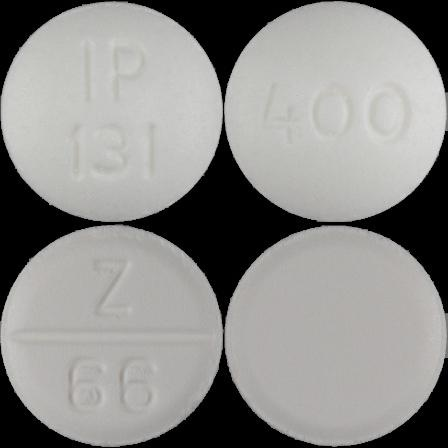10544-030: (0, 0, 224, 224)
